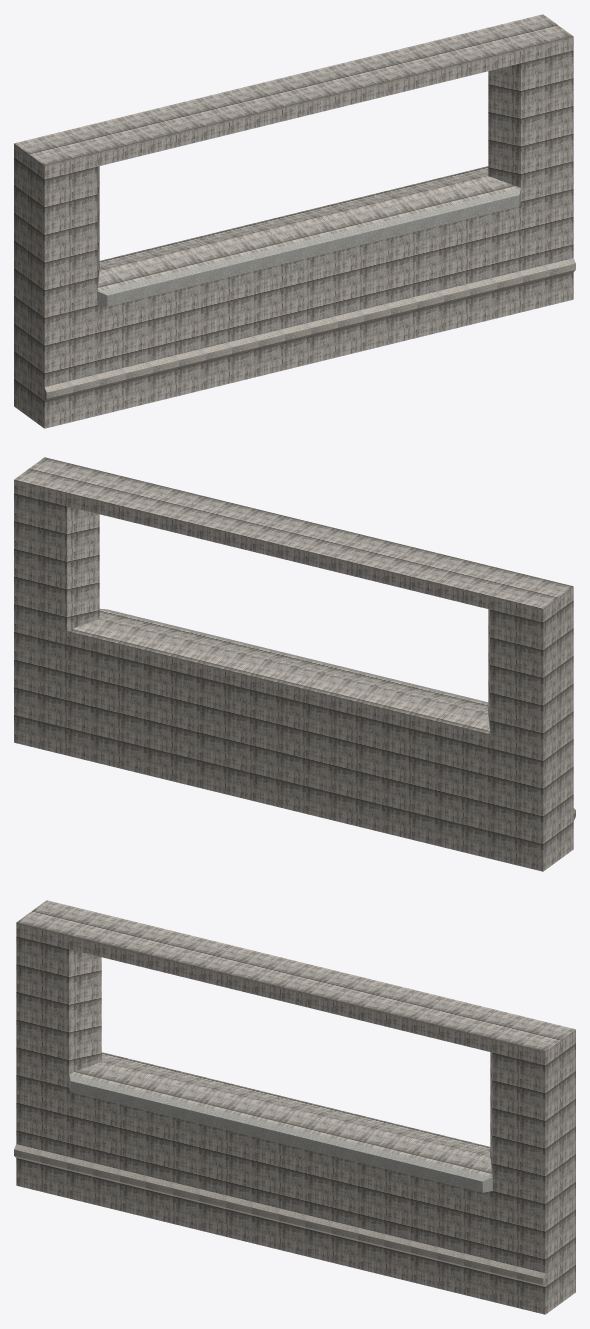
3 views of the same model, one above another, from view 1: azimuth 30°, elevation 25°; view 2: azimuth 150°, elevation 25°; view 3: azimuth 330°, elevation 25° (orthographic).
Visible parts, largest first — view 1: TexturesCom_ConcreteLeaking0255_1_M, TexturesCom_MetalScratches0021_M, TexturesCom_BrickMessy0175_2_M; view 2: TexturesCom_ConcreteLeaking0255_1_M, TexturesCom_MetalScratches0021_M; view 3: TexturesCom_ConcreteLeaking0255_1_M, TexturesCom_MetalScratches0021_M, TexturesCom_BrickMessy0175_2_M.
Part boxes in pixels (left/top/right/bottom): TexturesCom_ConcreteLeaking0255_1_M: left=14, top=14, right=573, bottom=428; TexturesCom_MetalScratches0021_M: left=97, top=188, right=520, bottom=306; TexturesCom_BrickMessy0175_2_M: left=44, top=258, right=575, bottom=400; TexturesCom_ConcreteLeaking0255_1_M: left=14, top=457, right=575, bottom=871; TexturesCom_MetalScratches0021_M: left=100, top=608, right=488, bottom=703; TexturesCom_ConcreteLeaking0255_1_M: left=16, top=900, right=575, bottom=1314; TexturesCom_MetalScratches0021_M: left=69, top=1074, right=492, bottom=1192; TexturesCom_BrickMessy0175_2_M: left=14, top=1144, right=545, bottom=1286.
Size of the model in its own units: 20 by 9.5 by 2.28.
Materials: 3 (3 with a texture image).
